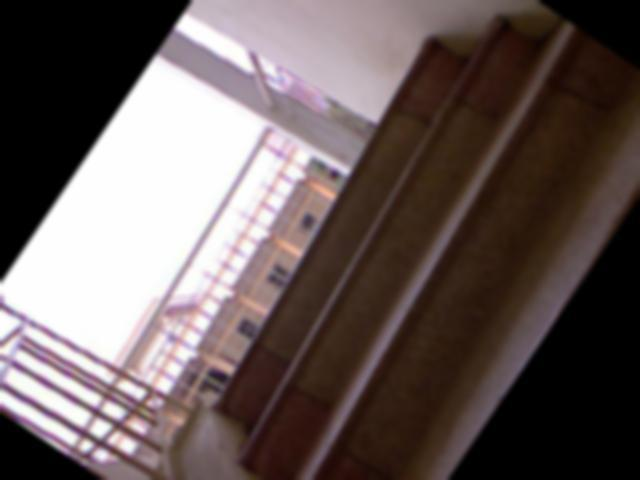Escaleras: (146, 0, 640, 480)
